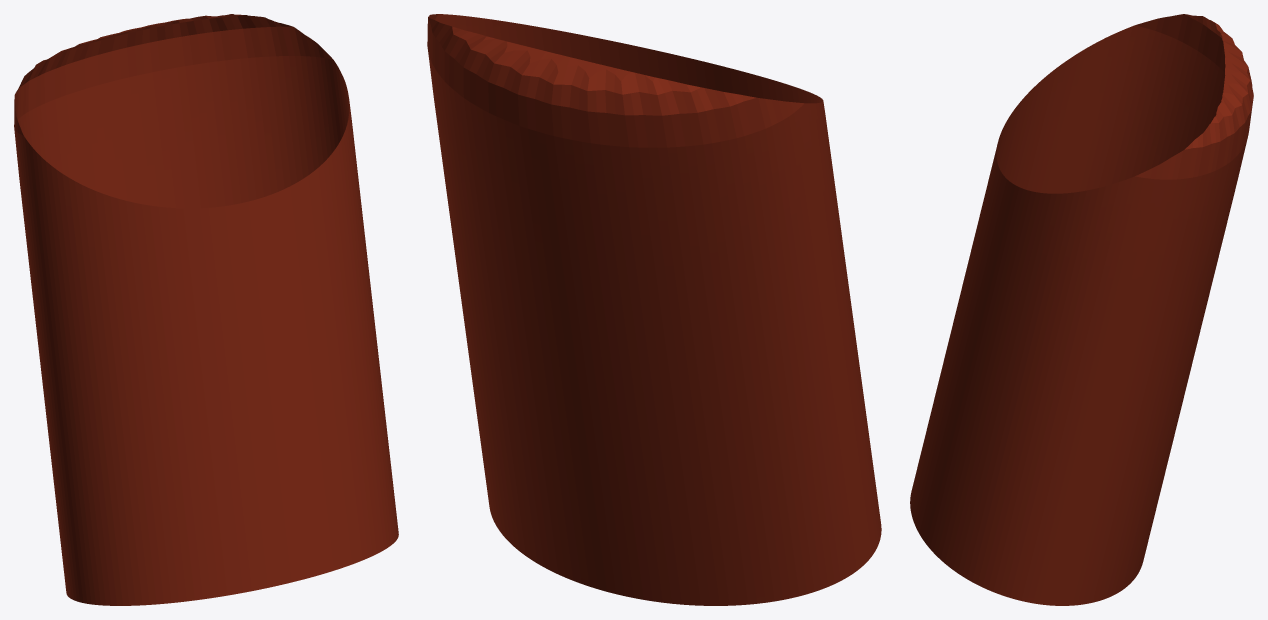
Rendered from pan_1.obj.
The picture shows the model from 3 angles, left to right: view 1: azimuth 30°, elevation 25°; view 2: azimuth 150°, elevation 25°; view 3: azimuth 270°, elevation 25°; orthographic projection. The views are drawn at different scales.
Size of the model in its own units: 0.0202 by 0.0301 by 0.0194.
